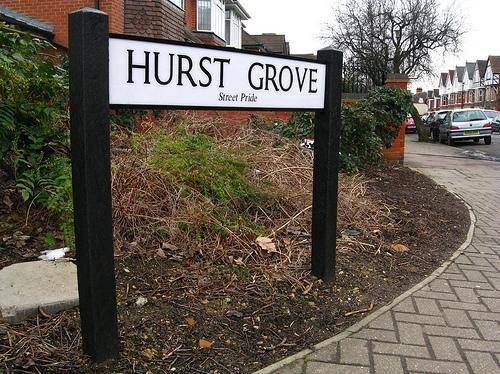car: (438, 108, 494, 147), (423, 109, 453, 140), (482, 110, 500, 124), (406, 117, 418, 132)
